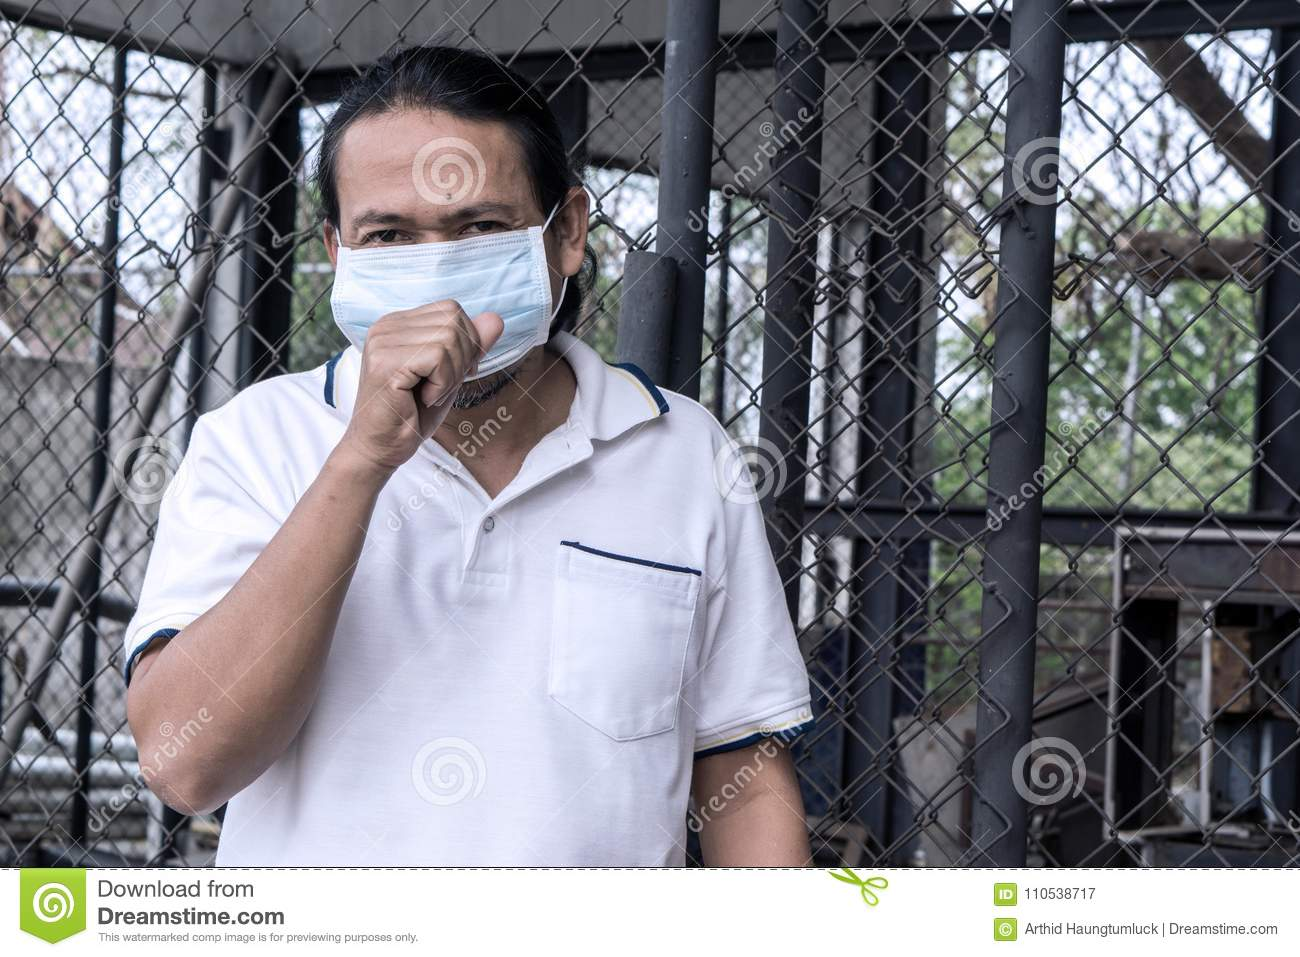mask: (329, 244, 556, 383)
